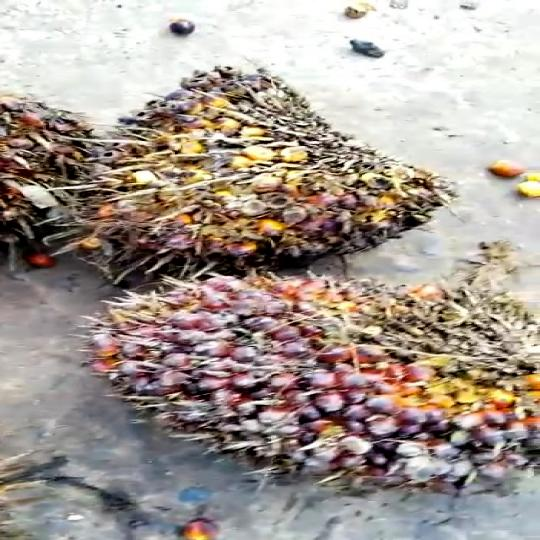masak: (97, 271, 540, 493), (87, 60, 443, 279)
